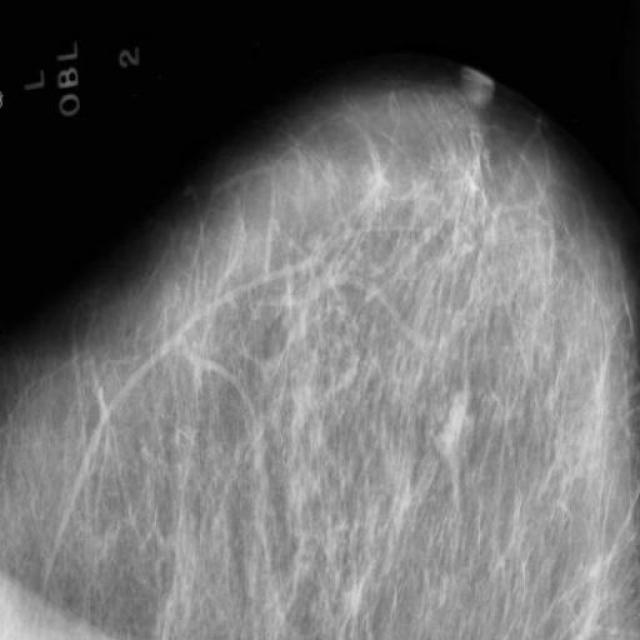cancer: (422, 187, 486, 268)
